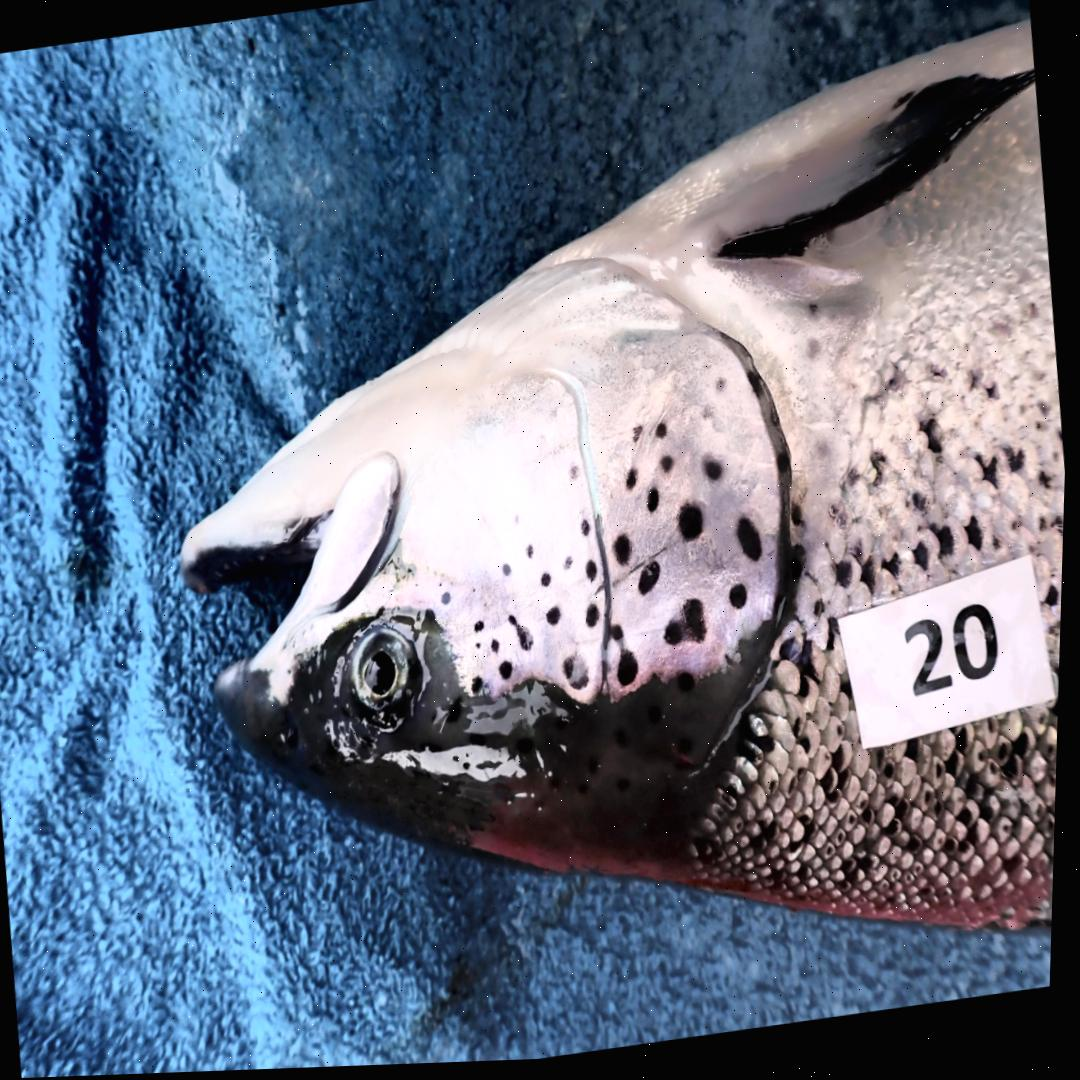spot: (669, 604, 711, 651), (739, 523, 767, 568), (567, 658, 593, 695), (682, 509, 707, 547), (513, 620, 537, 656), (622, 654, 644, 692), (641, 566, 664, 600), (617, 539, 634, 571), (734, 589, 752, 616), (589, 609, 605, 633), (708, 466, 726, 486), (650, 494, 663, 518), (701, 408, 717, 427), (504, 664, 518, 684), (550, 611, 565, 629), (614, 629, 628, 647), (629, 474, 641, 495), (664, 460, 677, 478), (590, 566, 601, 586), (635, 429, 646, 448), (659, 426, 670, 444), (477, 679, 488, 697), (718, 384, 730, 399), (584, 524, 593, 541), (495, 642, 504, 657), (573, 470, 582, 485), (479, 624, 490, 636), (568, 560, 576, 575), (545, 578, 554, 590), (446, 597, 455, 609), (529, 548, 536, 563), (507, 569, 514, 580), (480, 647, 484, 653)
